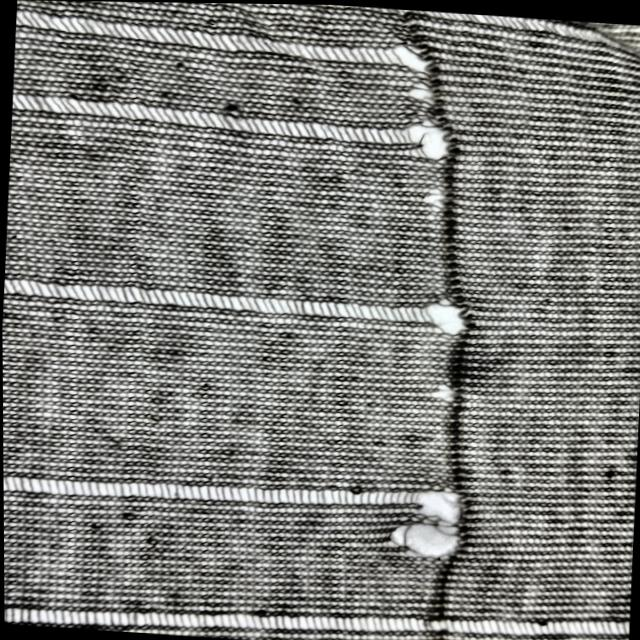Hole: (443, 353, 494, 392), (416, 182, 456, 217), (396, 80, 438, 106), (434, 375, 457, 414)
Stitch: (2, 262, 471, 349), (3, 577, 629, 640), (10, 84, 459, 162), (14, 0, 436, 76), (3, 455, 459, 519), (16, 0, 640, 38)
